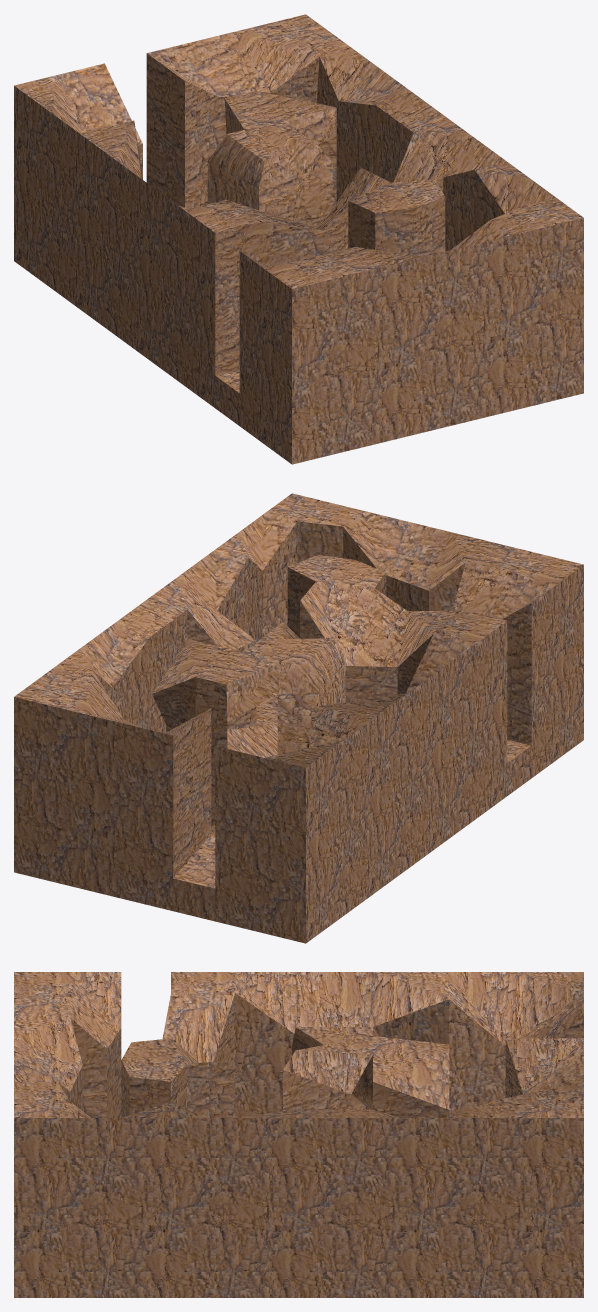
Rendered from Canyon5.fbx.
3 views of the same model, one above another, from view 1: azimuth 30°, elevation 25°; view 2: azimuth 150°, elevation 25°; view 3: azimuth 270°, elevation 25° (orthographic). The views are drawn at different scales.
Parts seen in each view (by area): view 1: Canyon5; view 2: Canyon5; view 3: Canyon5.
Part boxes in pixels (x1,y1,x2,y2): Canyon5: (14, 14, 583, 464); Canyon5: (14, 493, 583, 943); Canyon5: (14, 972, 583, 1297).
Size of what is drawn, in the model's own units: 21.83 by 12.78 by 36.02.
